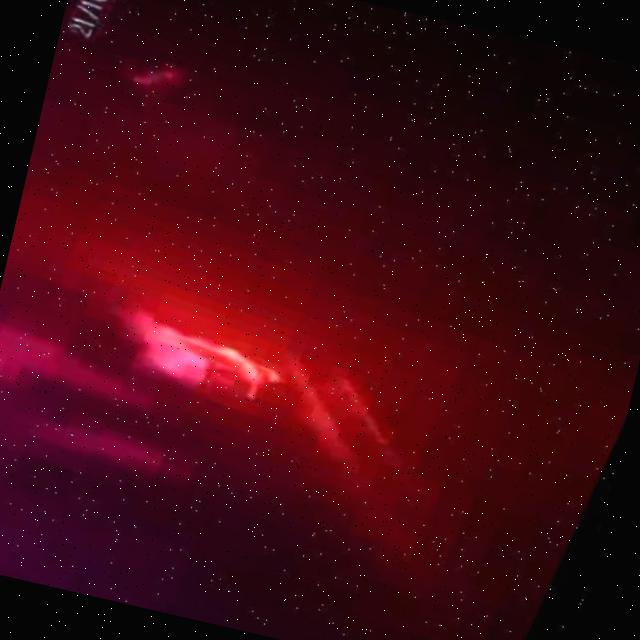fire: (35, 248, 349, 484)
